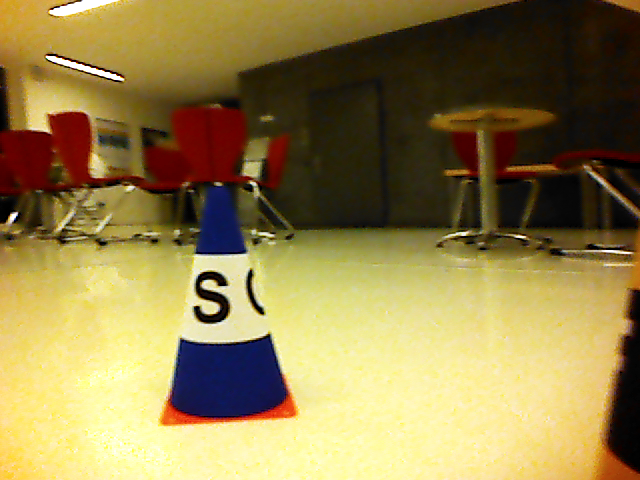bluecone: (169, 186, 289, 418)
